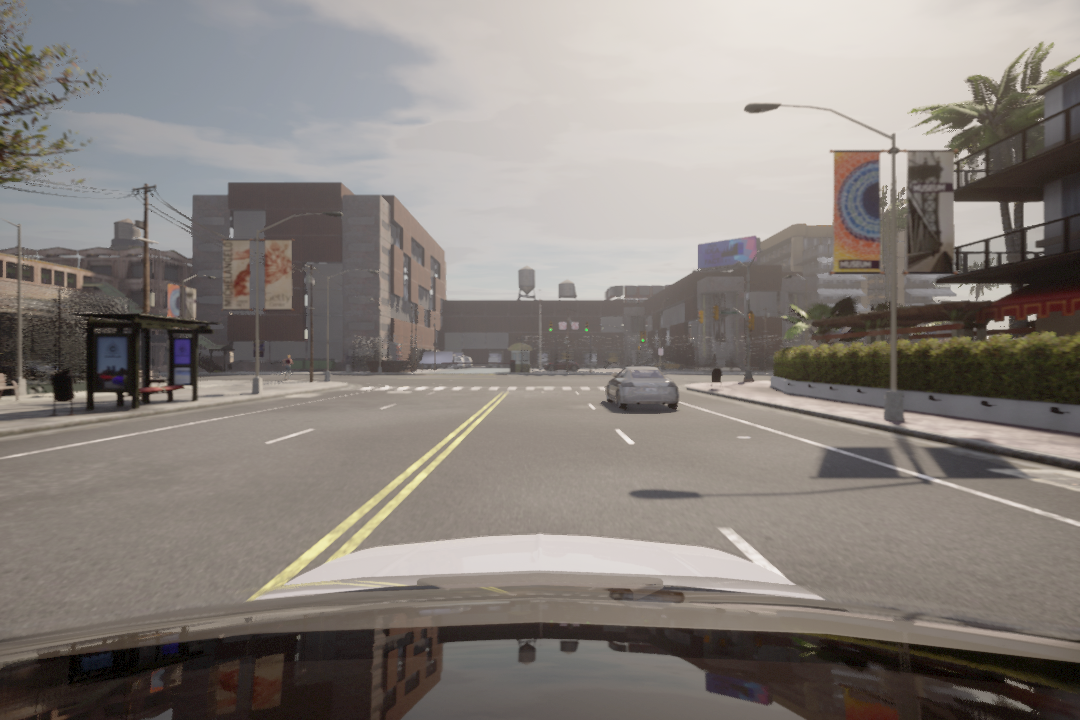walkside: (360, 381, 615, 396)
